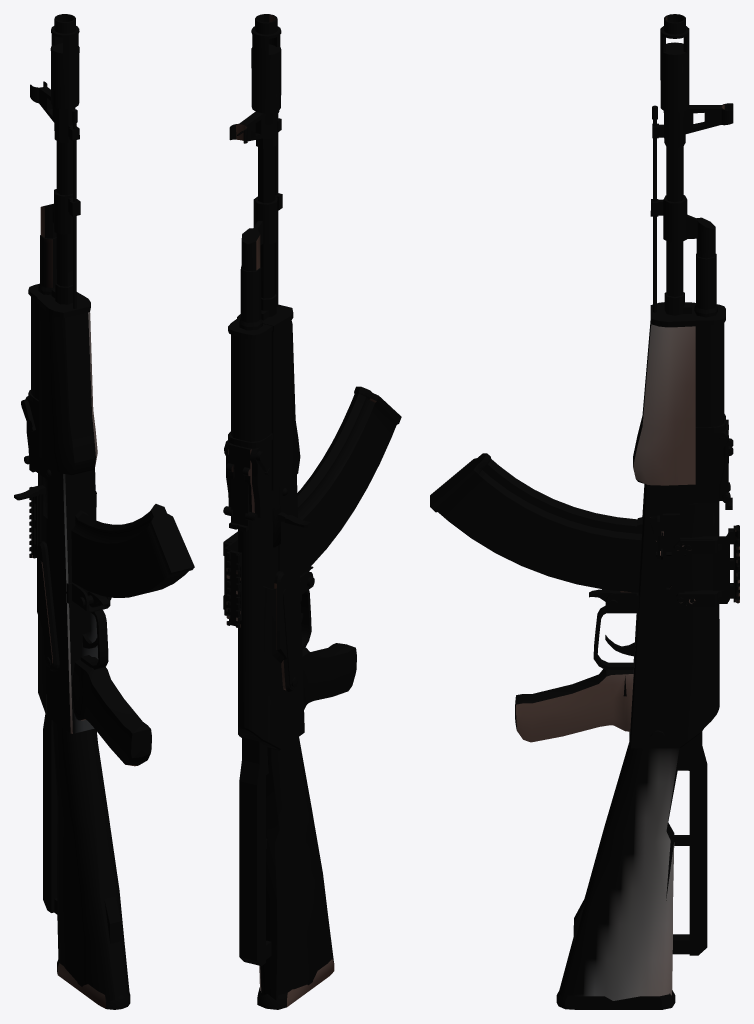
Rendered from AK74__Mount_AK_SideRail__Stock_AK_Folding.fbx.
3 views of the same model, side by side, from view 1: azimuth 30°, elevation 25°; view 2: azimuth 150°, elevation 25°; view 3: azimuth 270°, elevation 25° (orthographic). The views are drawn at different scales.
Visible parts, largest first — view 1: asset_AK74.001; view 2: asset_AK74.001; view 3: asset_AK74.001.
Part boxes in pixels (x1,y1,x2,y2): asset_AK74.001: (14,14,194,1009); asset_AK74.001: (223,14,401,1009); asset_AK74.001: (430,14,739,1009).
Size of the model in its own units: 0.0426 by 0.564 by 0.1608.
